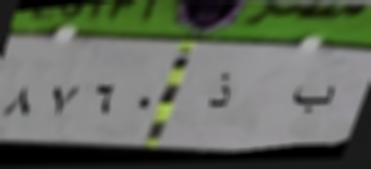0: (132, 92, 156, 113)
6: (92, 79, 117, 118)
7: (47, 82, 80, 120)
8: (1, 78, 36, 124)
baa: (288, 78, 339, 118)
zaal: (203, 69, 236, 114)
